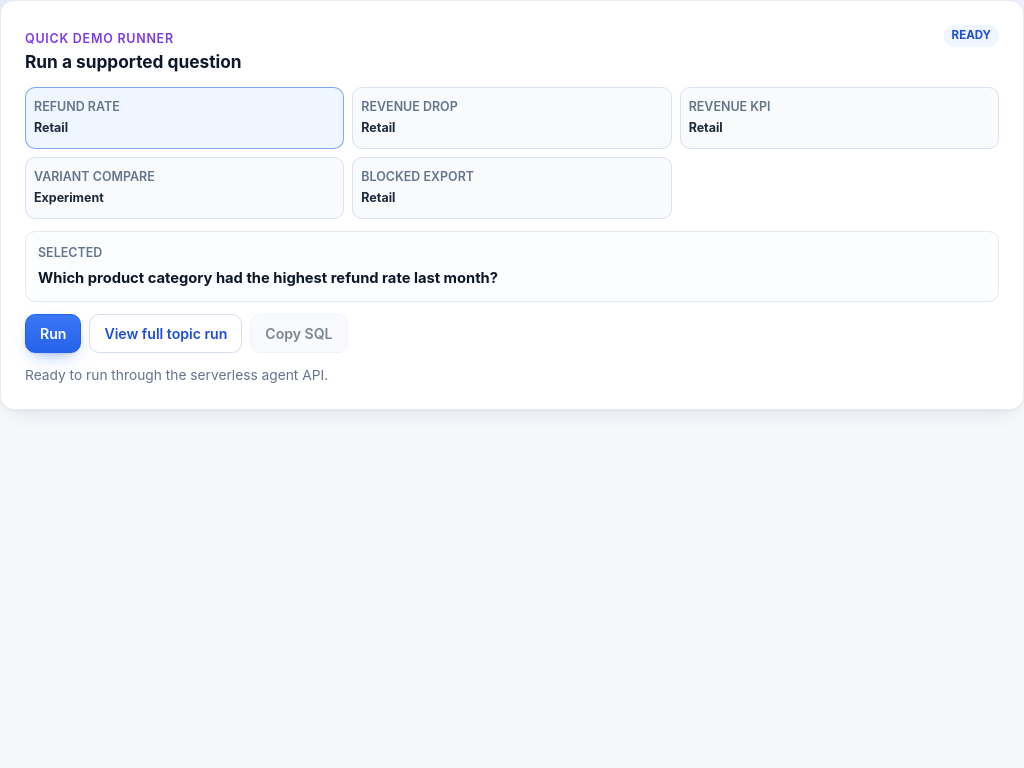
Test: QuickDemoRunner › keeps a completed failed AgentRun distinct from transport failure
This screenshot has width=1024, height=768.
Click the button "Run".
click(53, 333)  # box [25,314,81,353]
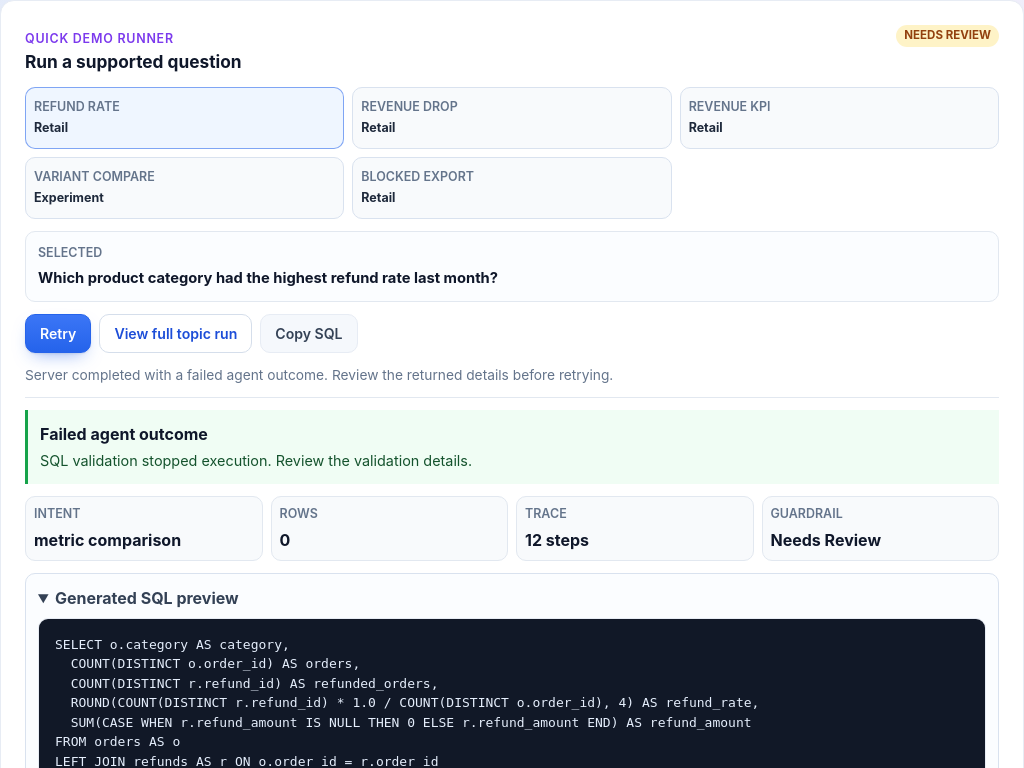
Check: the text "Server completed with a failed agent outcome. Review the returned details before retrying." is shown, box [25,367,613,383]
Check: the text "Failed agent outcome" is shown, box [40,424,208,444]
Check: the text "SQL validation stopped execution. Review the validation details." is shown, box [40,452,472,470]
